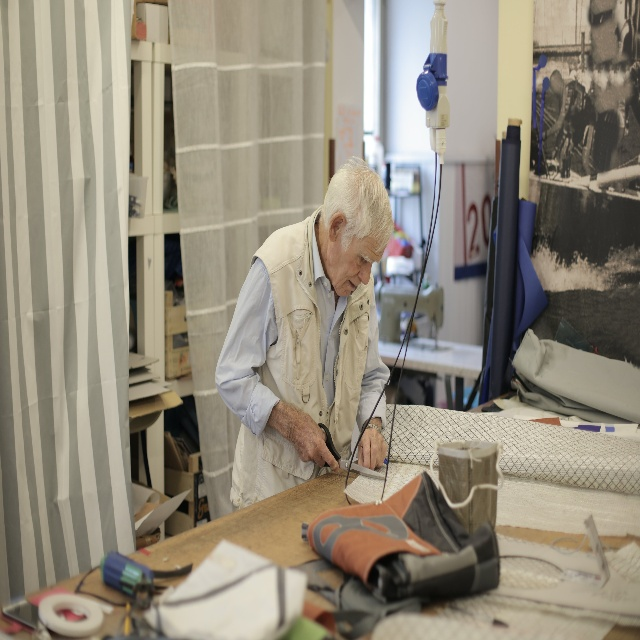Sin_guantes: (292, 412, 340, 473), (357, 426, 387, 471)
